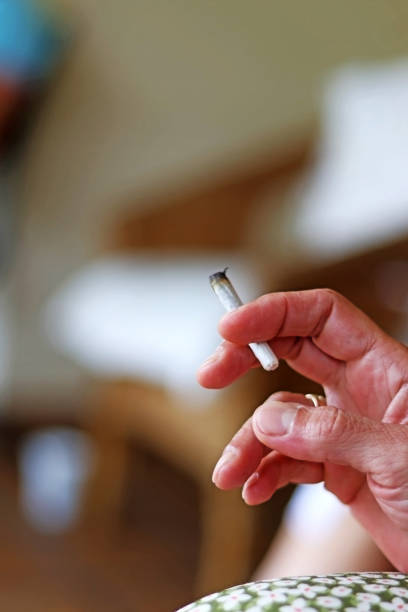cigarette: (208, 265, 279, 374)
